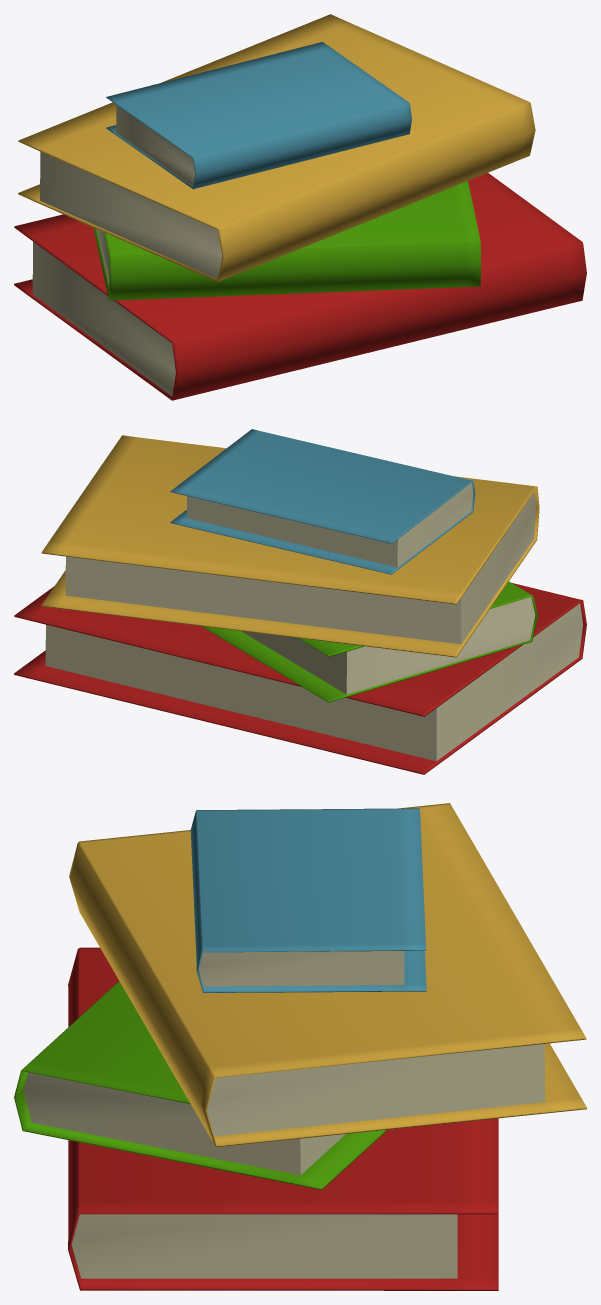
The model's file is uploads_files_112249_Books.fbx.
3 views of the same model, one above another, from view 1: azimuth 30°, elevation 25°; view 2: azimuth 150°, elevation 25°; view 3: azimuth 270°, elevation 25° (orthographic). The views are drawn at different scales.
Parts seen in each view (by area): view 1: Book_3, Book_1, Book_4, Book_2; view 2: Book_3, Book_1, Book_4, Book_2; view 3: Book_3, Book_1, Book_4, Book_2.
Boxes of the visible parts, bbox=[...] form: Book_3: bbox=[18, 14, 535, 281]; Book_1: bbox=[14, 173, 586, 400]; Book_4: bbox=[106, 42, 411, 189]; Book_2: bbox=[93, 181, 481, 300]; Book_3: bbox=[41, 435, 539, 657]; Book_1: bbox=[14, 583, 586, 774]; Book_4: bbox=[170, 429, 475, 574]; Book_2: bbox=[201, 581, 537, 702]; Book_3: bbox=[69, 803, 586, 1147]; Book_1: bbox=[68, 947, 498, 1290]; Book_4: bbox=[190, 808, 426, 992]; Book_2: bbox=[14, 981, 387, 1189].
Bounding box in the file's own units: 1.55 × 0.6815 × 1.37.
